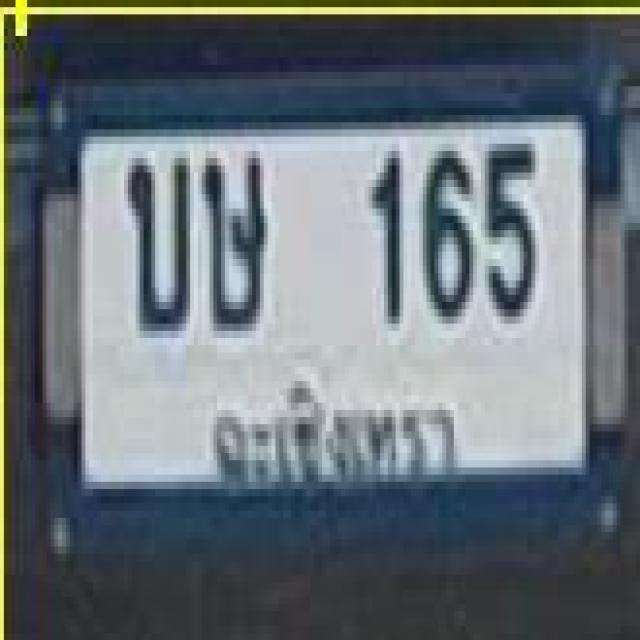license_plate: (55, 90, 611, 538)
